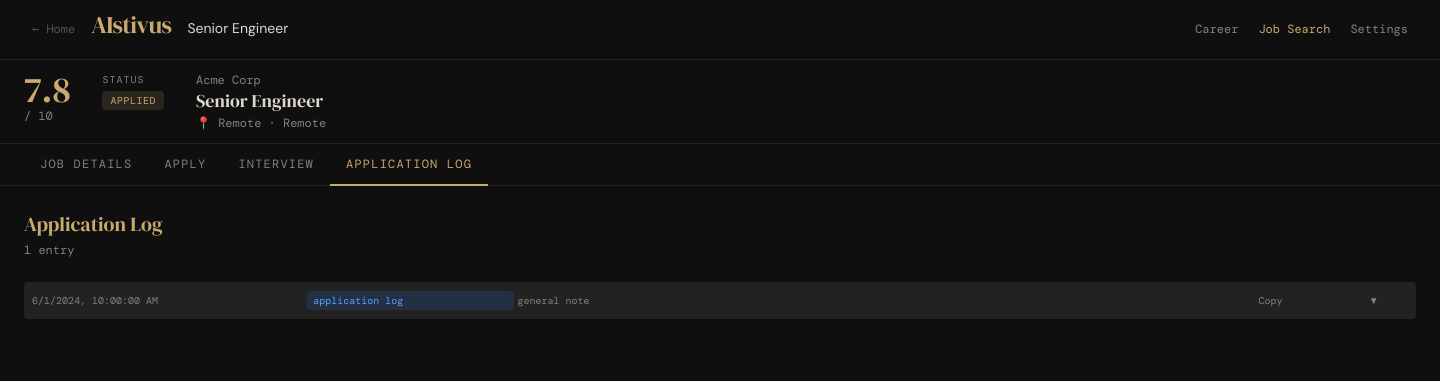
Test: JobDetailPage workspace › APPLICATION LOG ActivityLogRow › clicking the header row toggles expanded content
The image size is (1440, 381).
expect the text "This is the log text" is not shown: met
// click the header row
Click the text "general note" at coordinates (554, 300), box [518,294,590,306]
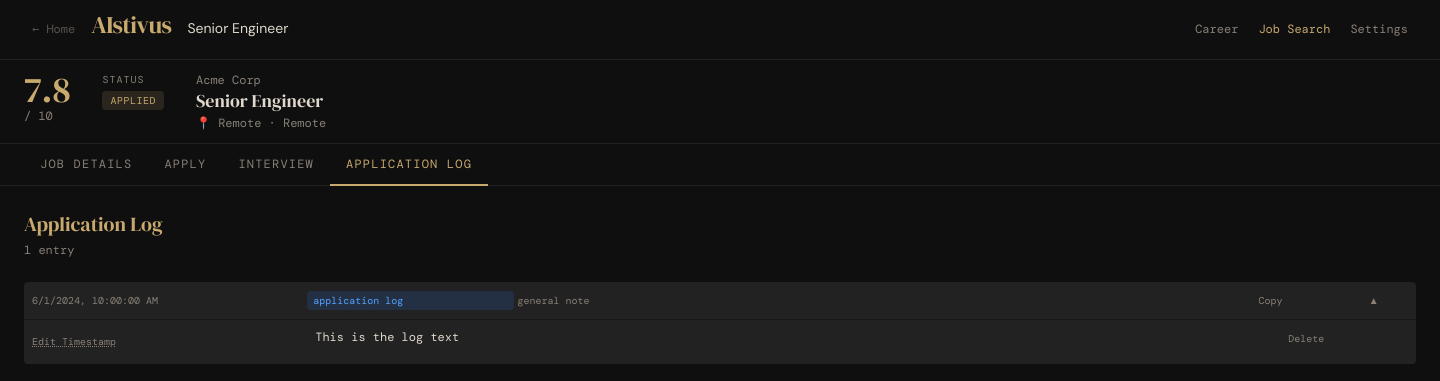
expect the text "This is the log text" is shown: met, box [315,328,459,344]
